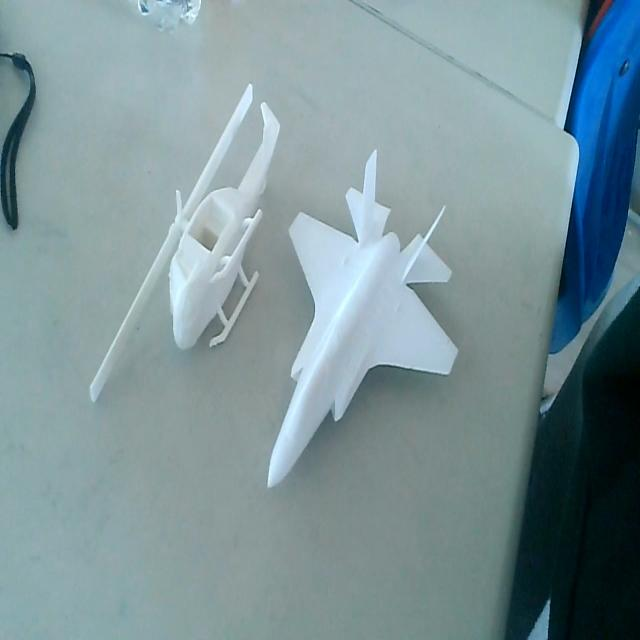Helicopter: (90, 84, 282, 404)
Jet: (265, 149, 460, 501)
